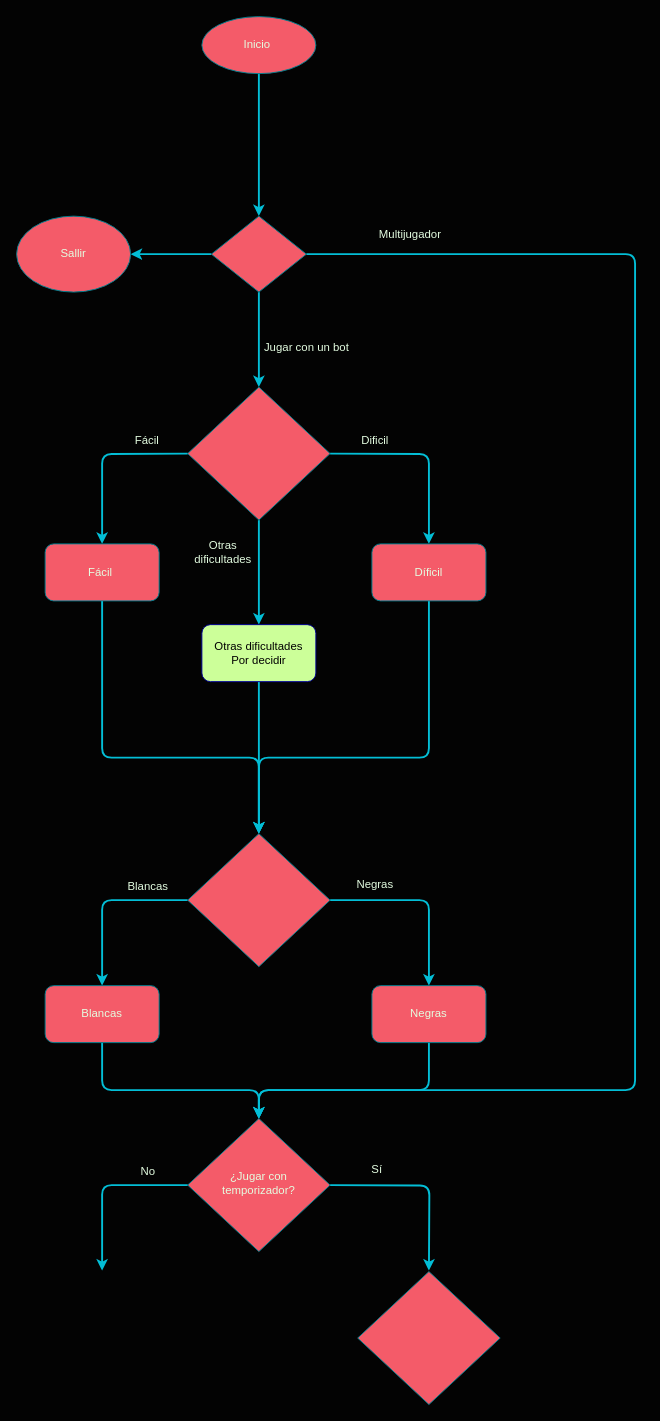
Some shapes in this 660 by 1421 pixel diagram are drawn without their labels. The shapes that lost their labels are listed below. From the top down, each one's centre as x and y in pixels, then its label:
the point at 258,253: Menú
the point at 258,453: Nivel de Dificultad
the point at 258,900: ¿Con que color desea jugar?
the point at 428,1338: Tiempo por jugador
